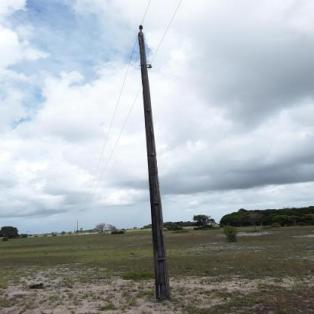Poste: (131, 23, 180, 300)
